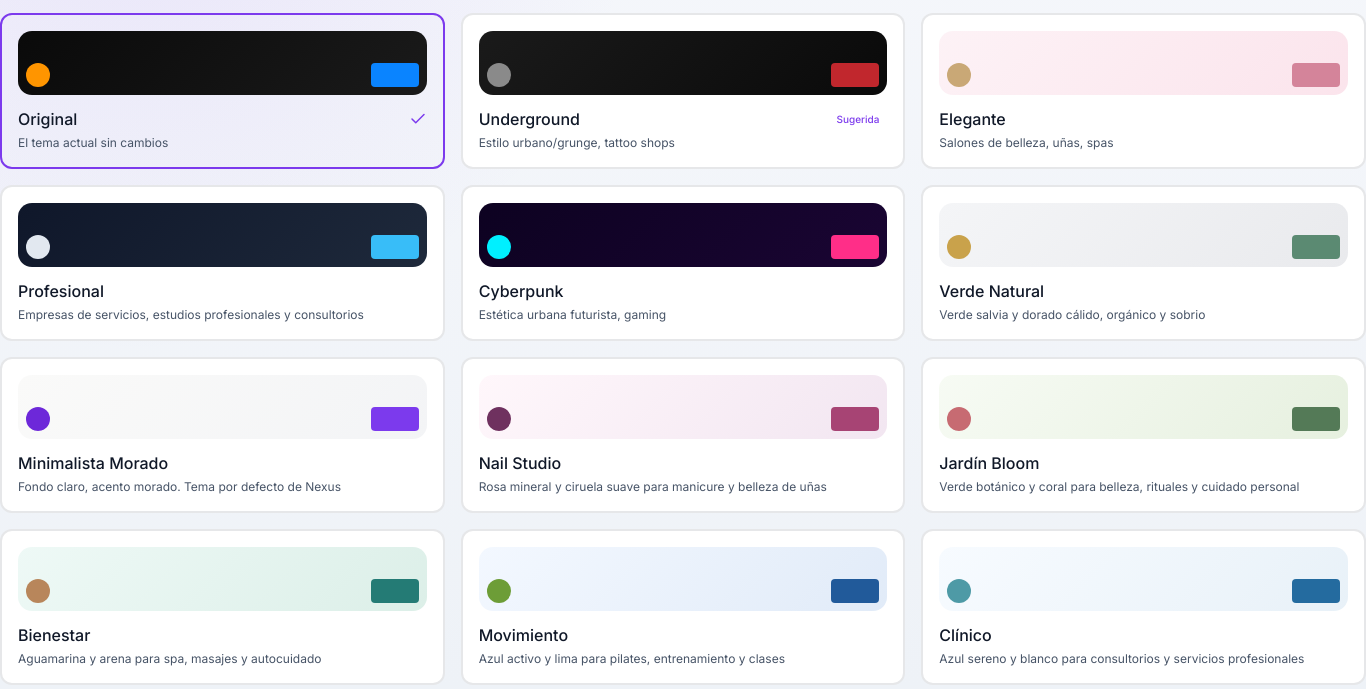
Test: picking a theme does not save by itself and "Guardar cambios" is disabled until something changes
Click the button "Underground Sugerida Estilo urbano/grunge, tattoo shops". click: (683, 91)
box: top-left (461, 13), bottom-right (905, 169)
(page scrolled)
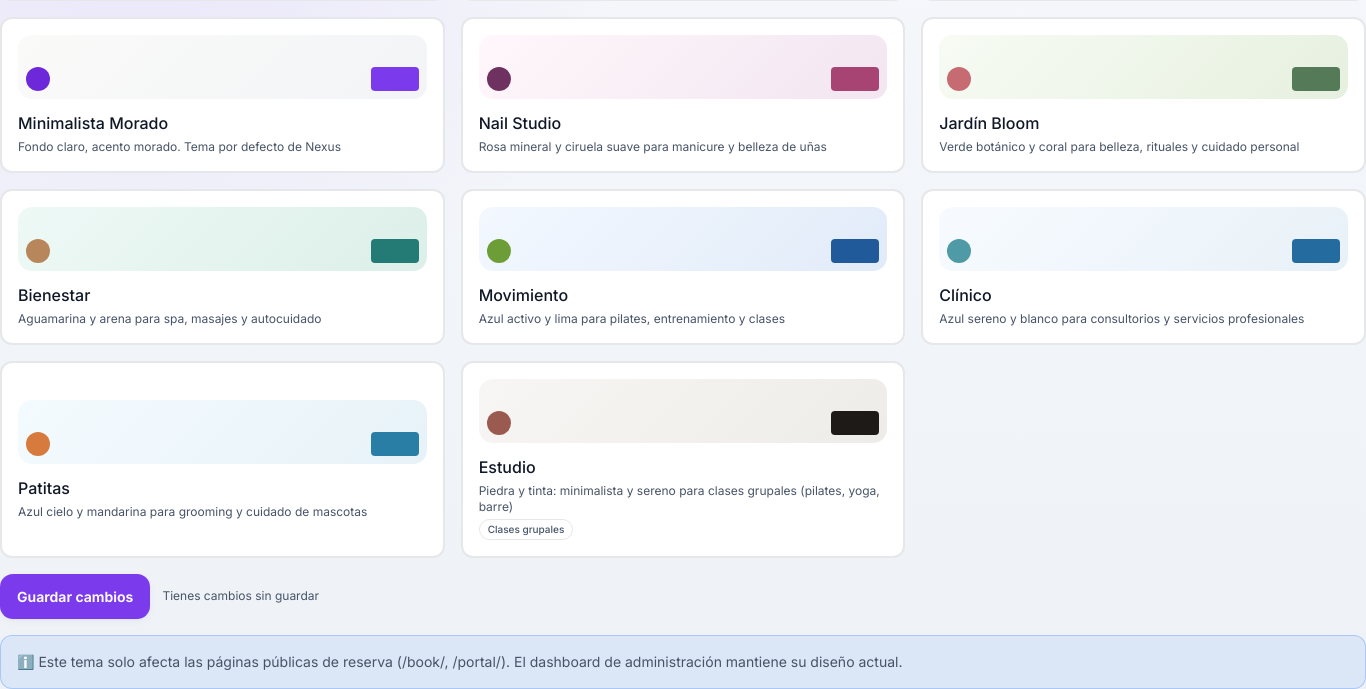
Check: the button "Guardar cambios" is enabled, box top-left (0, 574), bottom-right (150, 619)
